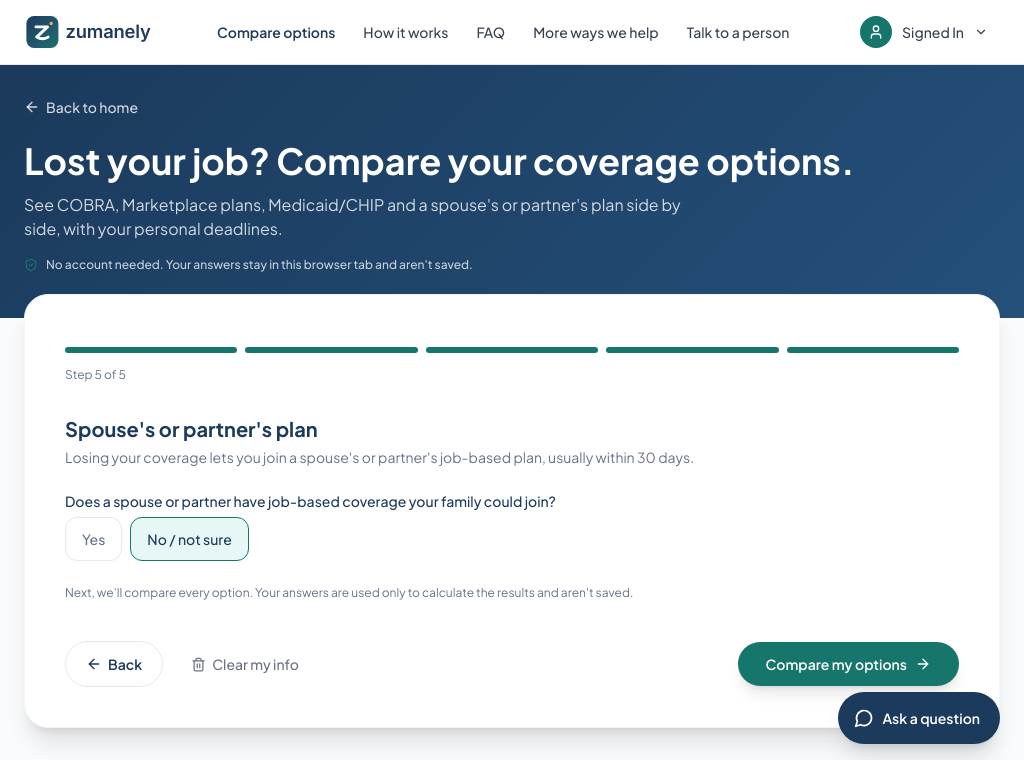
Test: chat panel › "Ask about my results" opens the panel in place with only the summary, never saved
Click the button "Compare my options": click(848, 664) [738,642,959,686]
(page scrolled)
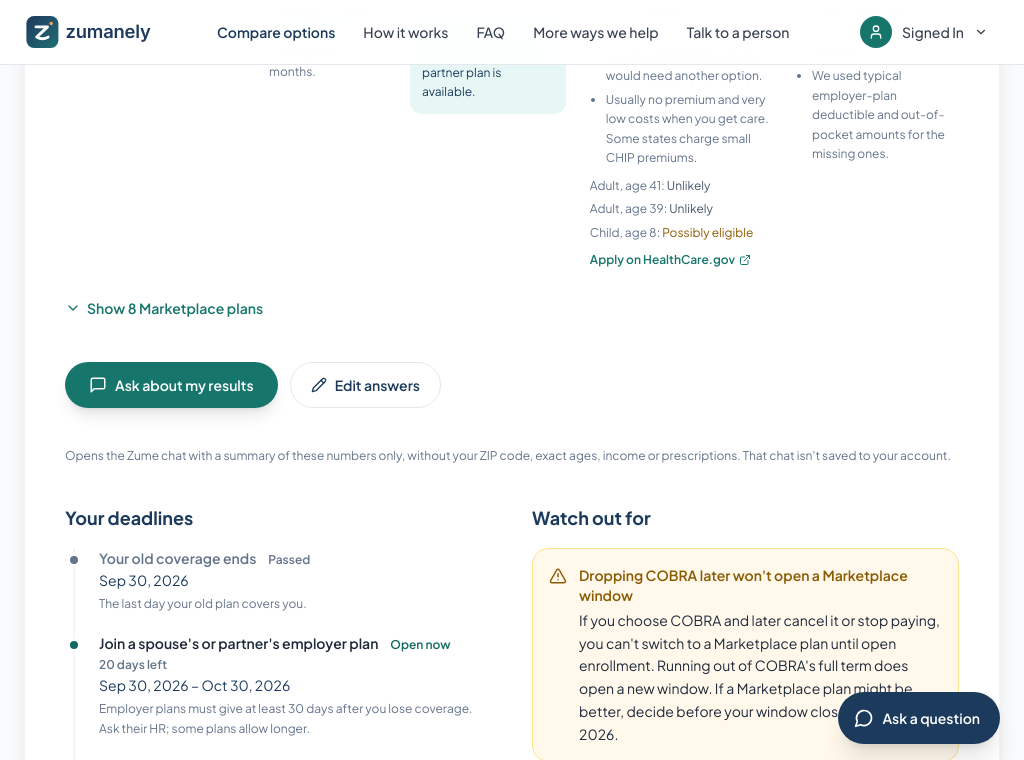
Click the button "Ask about my results": click(171, 385) [65,362,278,408]
(page scrolled)
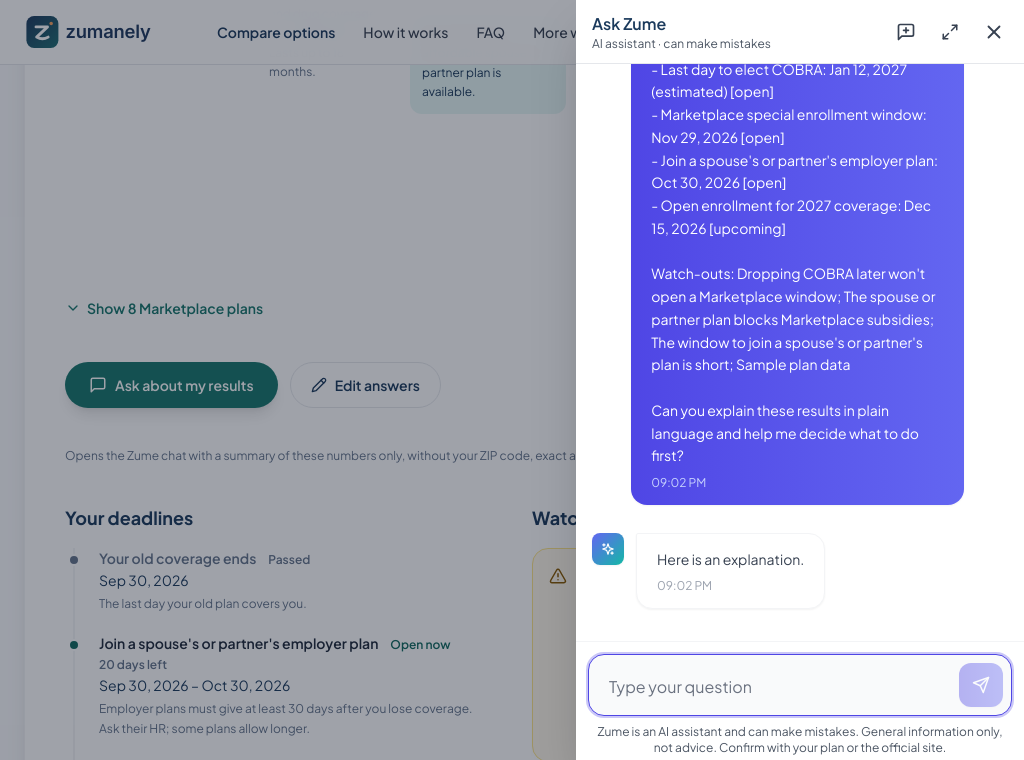
Expected: the text "Here is an explanation." is shown, [657,548,804,570]
